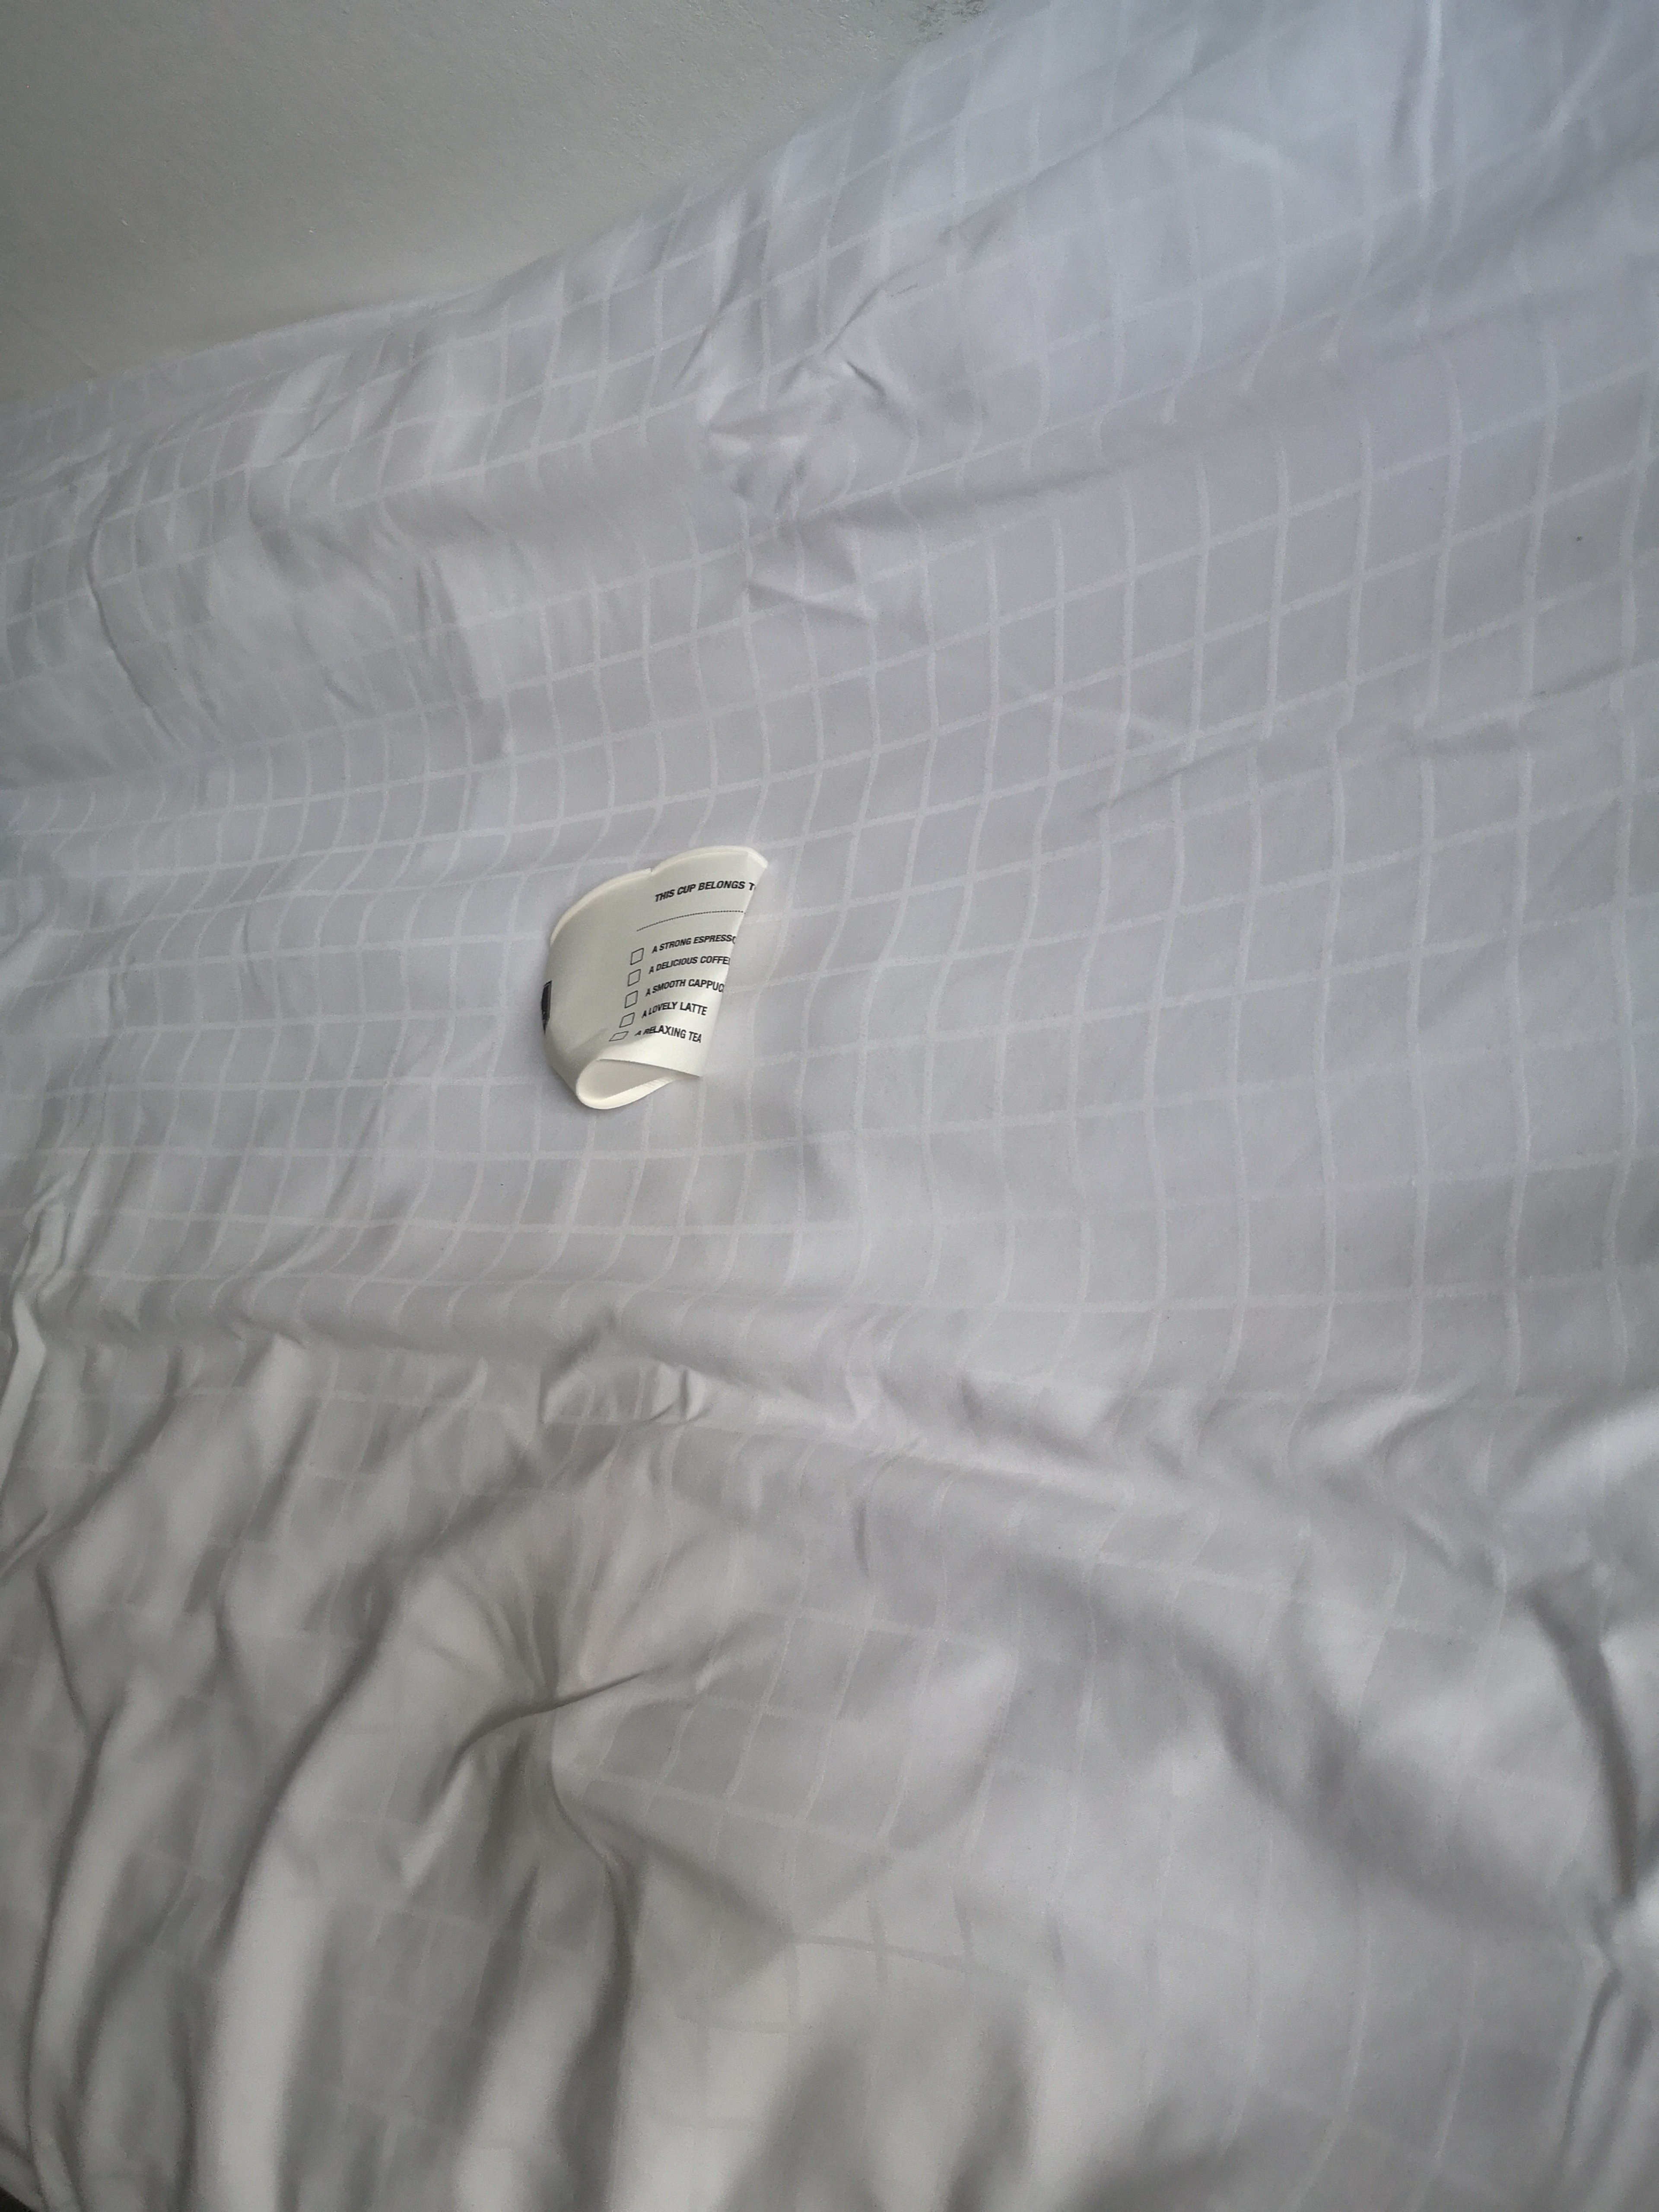cup: (498, 815, 777, 1125)
